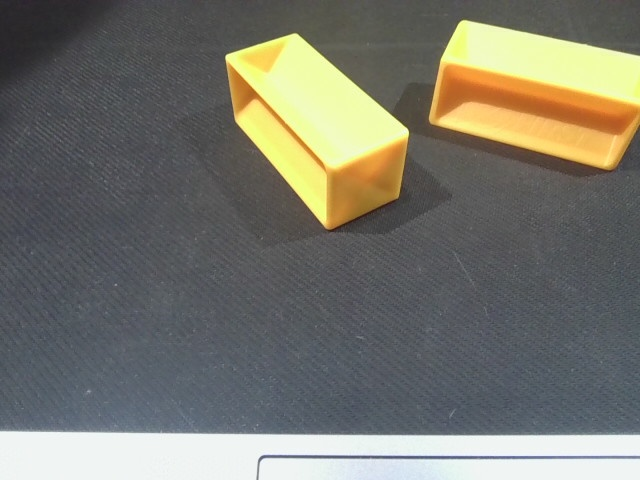YellowSample: (222, 30, 412, 245), (426, 16, 640, 172)
